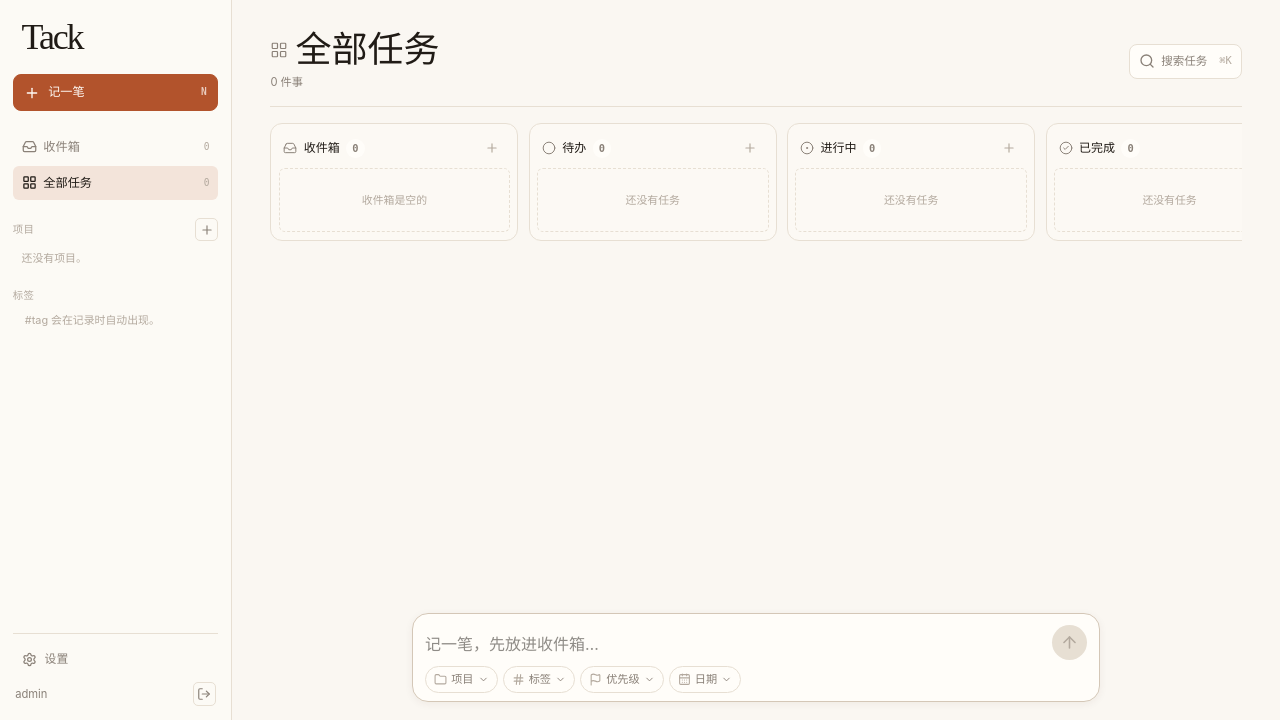
Test: Tack login › revokes the session and closes its event stream on logout
Click the button named "退出".
click(204, 694)  # box top-left (193, 682), bottom-right (216, 706)
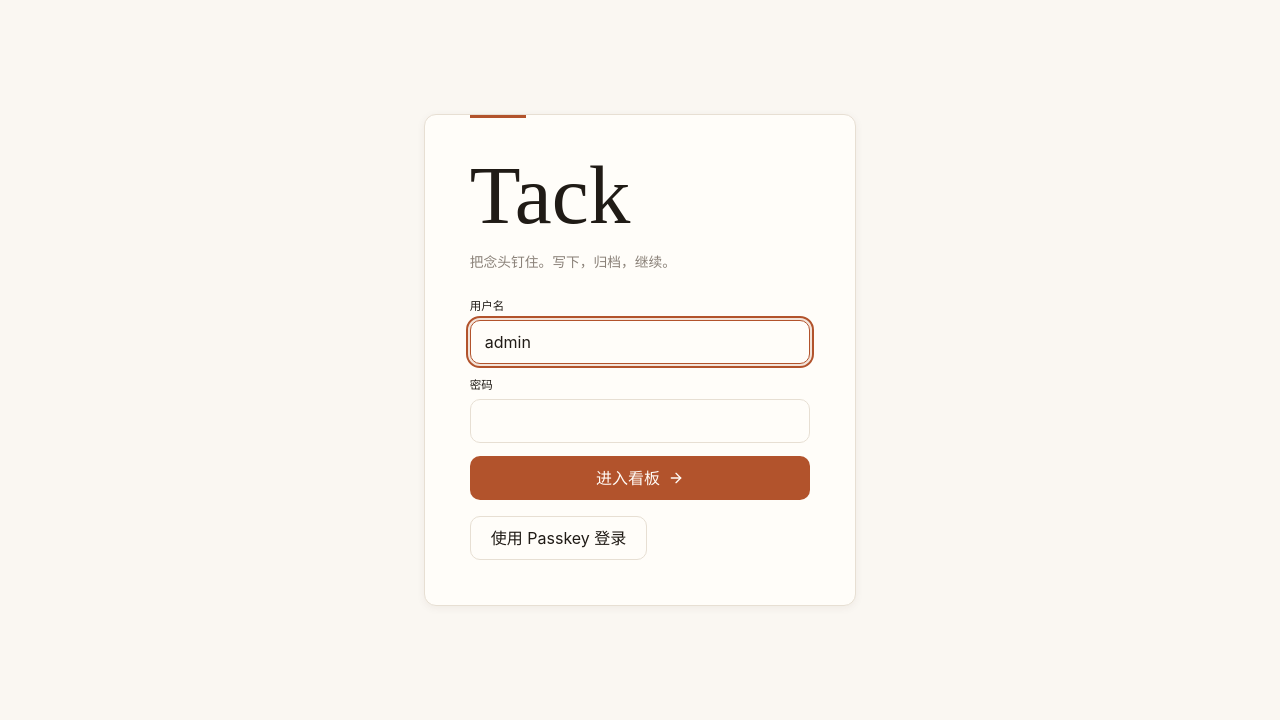
expect the button "进入看板" is shown: met, box top-left (470, 456), bottom-right (810, 500)
